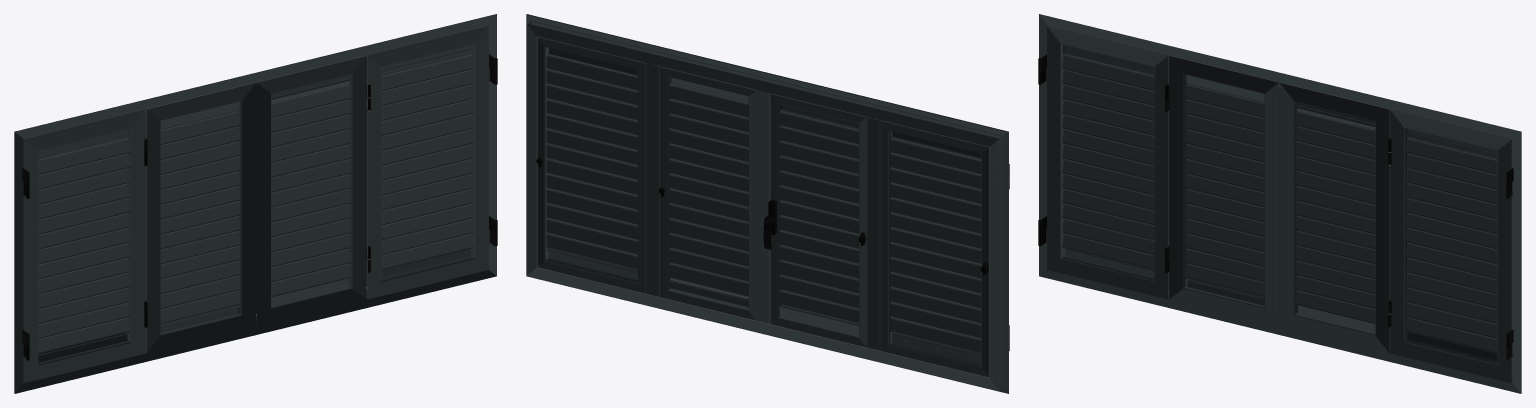
3 views of the same model, side by side, from view 1: azimuth 30°, elevation 25°; view 2: azimuth 150°, elevation 25°; view 3: azimuth 330°, elevation 25° (orthographic).
Parts seen in each view (by area): view 1: ouvrant, 4folhas, ouvrant_3, ouvrant_4, lame1_2, lame1_4, lame3_2, lame9_2, lame12_2, lame4_2, lame8_2, lame10_2 (+44 smaller); view 2: 4folhas, ouvrant, ouvrant_3, ouvrant_4, lame13_2, lame13_4, lame1_4, lame4_4, lame10_4, lame2_4, lame9_4, lame12_4 (+44 smaller); view 3: ouvrant, 4folhas, ouvrant_3, ouvrant_4, lame1_4, lame1_2, lame3_4, lame9_4, lame12_4, lame4_4, lame8_4, lame10_4 (+44 smaller).
Boxes of the visible parts, box(x1,y1,x2,y2) form: ouvrant: box(256, 25, 497, 326); 4folhas: box(14, 14, 497, 393); ouvrant_3: box(22, 109, 147, 383); ouvrant_4: box(144, 82, 256, 353); lame1_2: box(381, 54, 473, 90); lame1_4: box(38, 138, 129, 174); lame3_2: box(381, 84, 473, 120); lame9_2: box(381, 174, 473, 210); lame12_2: box(381, 218, 473, 255); lame4_2: box(381, 99, 473, 135); lame8_2: box(381, 159, 473, 195); lame10_2: box(381, 188, 473, 225); 4folhas: box(526, 14, 1009, 393); ouvrant: box(537, 36, 770, 323); ouvrant_3: box(867, 117, 1009, 377); ouvrant_4: box(769, 93, 876, 347); lame13_2: box(546, 233, 637, 269); lame13_4: box(890, 316, 981, 353); lame1_4: box(890, 137, 981, 174); lame4_4: box(890, 182, 981, 218); lame10_4: box(890, 272, 981, 308); lame2_4: box(890, 152, 981, 188); lame9_4: box(890, 257, 981, 293); lame12_4: box(890, 301, 981, 338); ouvrant: box(1279, 82, 1513, 383); 4folhas: box(1038, 14, 1521, 393); ouvrant_3: box(1038, 25, 1169, 299); ouvrant_4: box(1165, 55, 1279, 326); lame1_4: box(1062, 54, 1154, 90); lame1_2: box(1406, 138, 1497, 174); lame3_4: box(1062, 84, 1154, 120); lame9_4: box(1062, 174, 1154, 210); lame12_4: box(1062, 218, 1154, 255); lame4_4: box(1062, 99, 1154, 135); lame8_4: box(1062, 159, 1154, 195); lame10_4: box(1062, 188, 1154, 225).
Bounding box in the file's own units: 203 × 105 × 13.71.
Materials: 1 (1 with a texture image).
